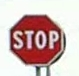stop: (9, 12, 63, 65)
